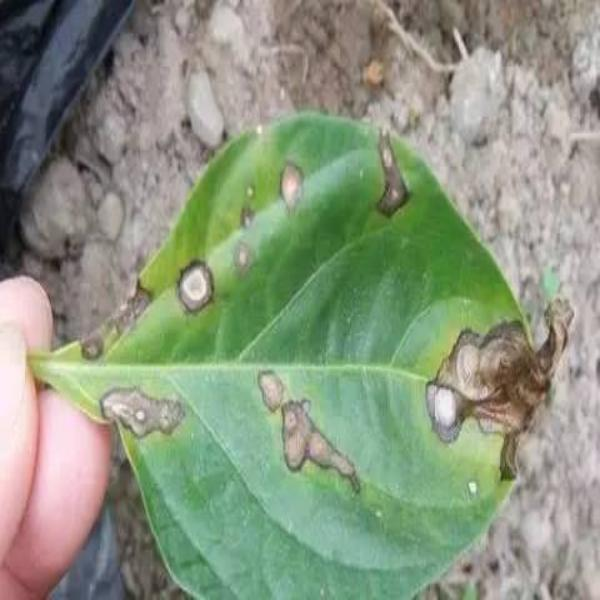Improper medication: (131, 237, 242, 396), (291, 210, 413, 353)
